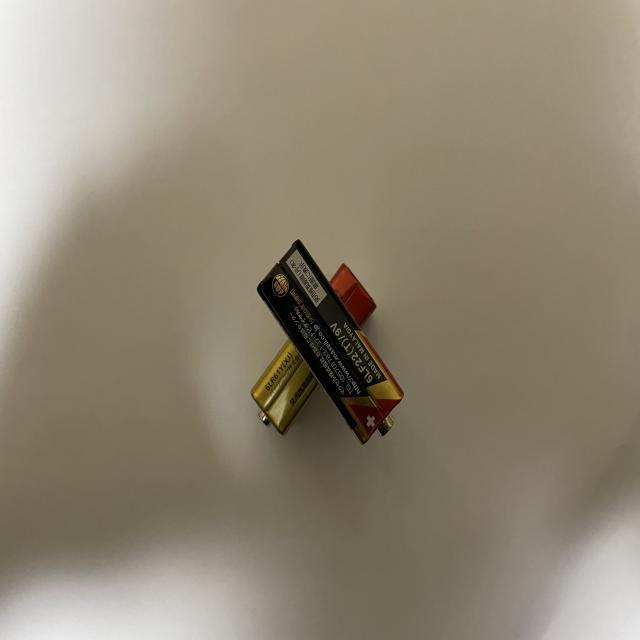9V: (256, 237, 406, 447), (249, 262, 377, 435)
